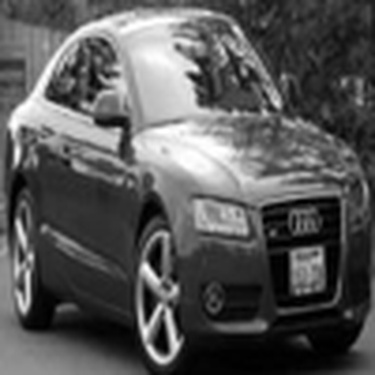car: (5, 5, 367, 345)
